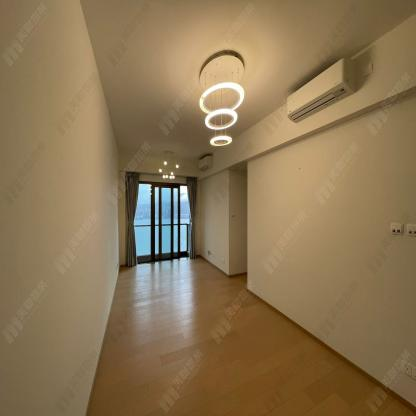AC: (287, 58, 356, 124)
